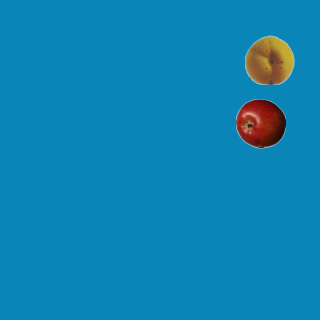Apple Braeburn: (235, 98, 285, 148)
Peach 2: (244, 34, 294, 84)
